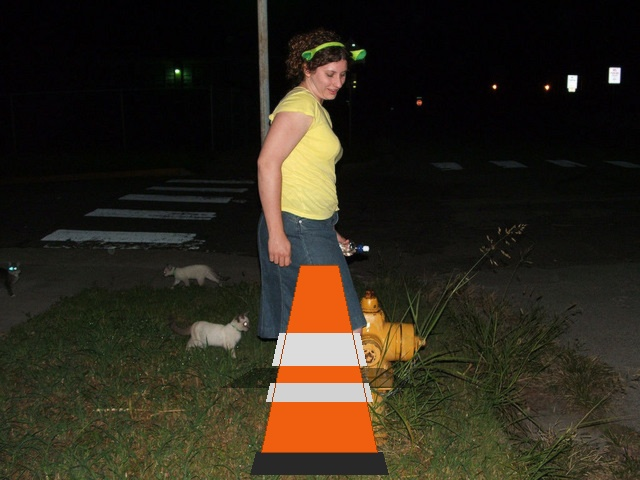traffic-cone: (250, 265, 388, 474)
